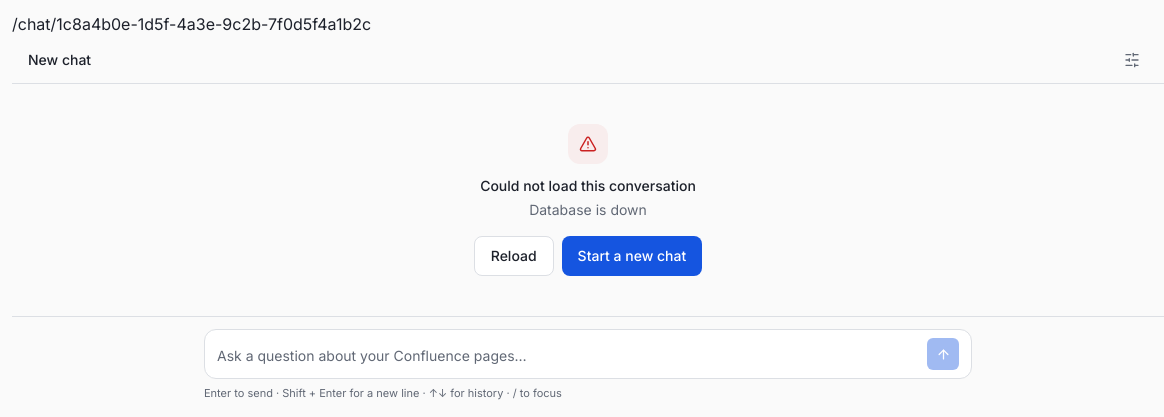
it: asking a question after a failed read › shows the answer instead of the read failure
Expected: the text "Could not load this conversation" is shown, [480,176,696,196]
Type "How do I reset my password?" into the text box labelled "Ask a question about your Confluence pages…" at {"x": 568, "y": 356}, box [217,342,919,370]
Then press Enter
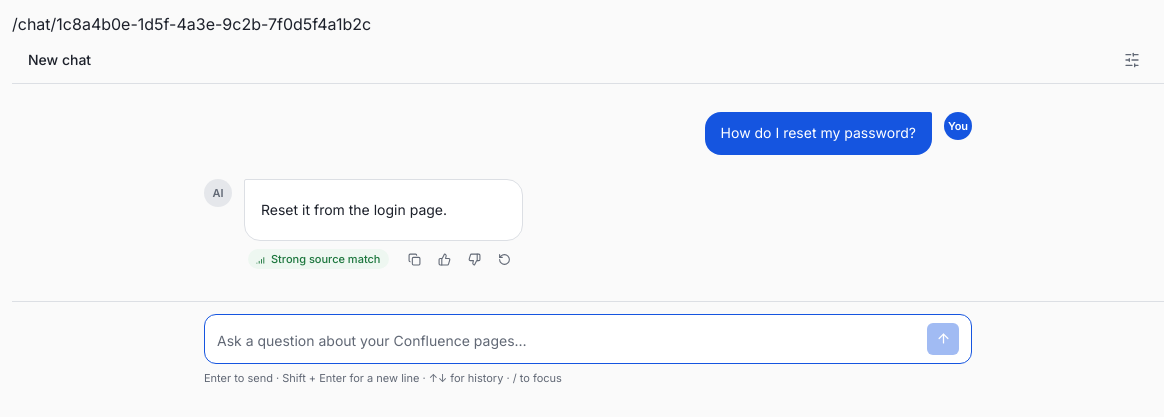
Now the text "Reset it from the login page." is shown, box [261,201,447,218]
Now the text "Could not load this conversation" is gone
